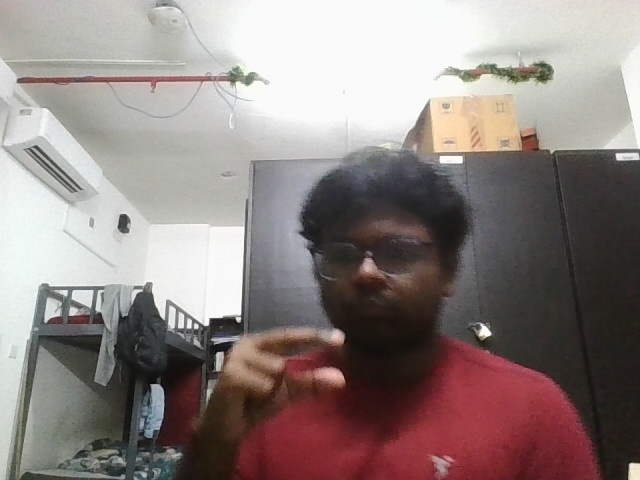No: (182, 313, 376, 447)
